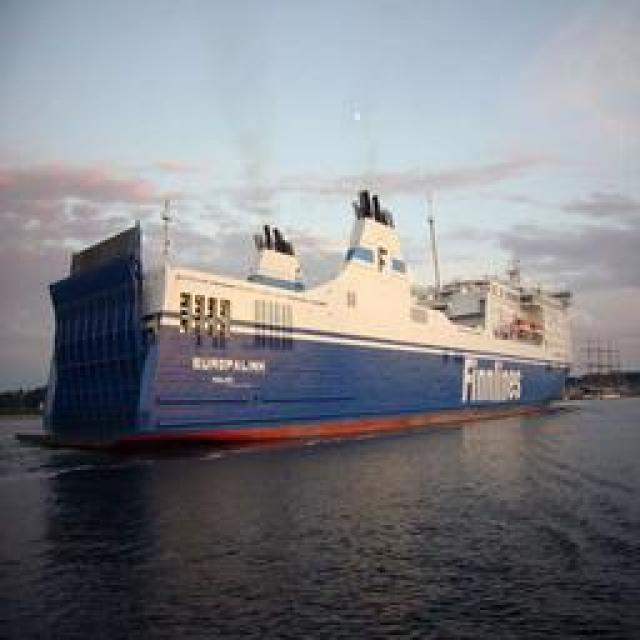ship2: (26, 190, 573, 461)
